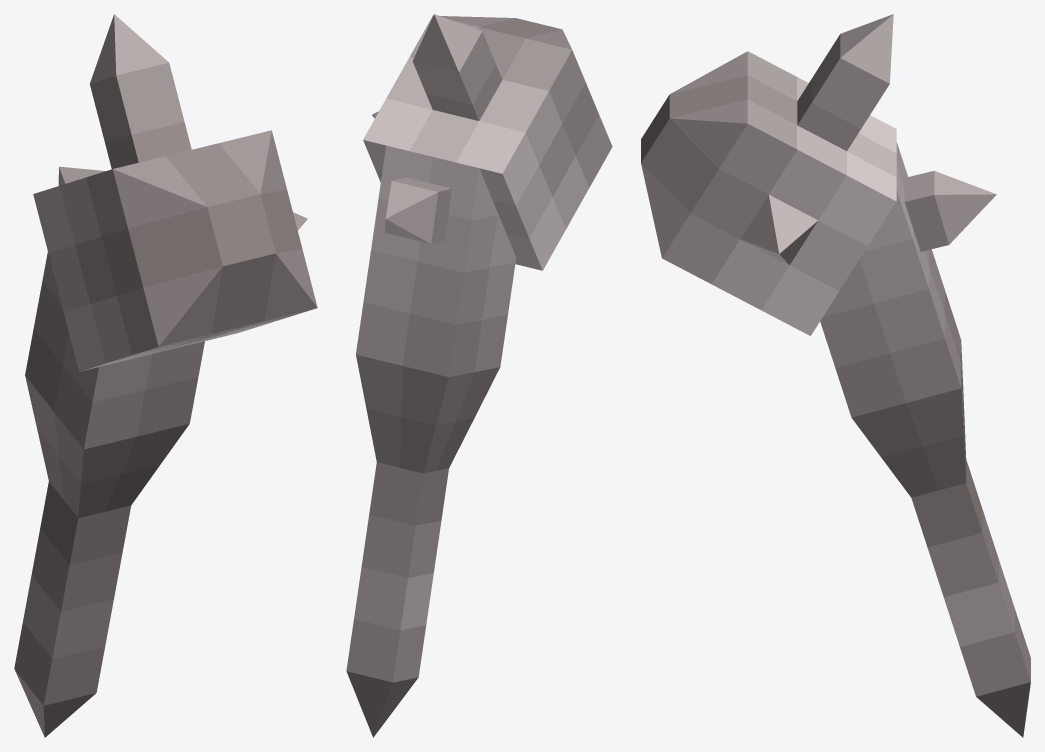
Rendered from leg_ender_front_r.obj.
The picture shows the model from 3 angles, left to right: view 1: azimuth 30°, elevation 25°; view 2: azimuth 150°, elevation 25°; view 3: azimuth 270°, elevation 25°; orthographic projection. The views are drawn at different scales.
Parts seen in each view (by area): view 1: LEG_ENDER_RIGHTFRONT_Cube.005, ELEG_RIGHTFRONT_DECO_IRON_Cube.177; view 2: LEG_ENDER_RIGHTFRONT_Cube.005, ELEG_RIGHTFRONT_DECO_IRON_Cube.177; view 3: LEG_ENDER_RIGHTFRONT_Cube.005, ELEG_RIGHTFRONT_DECO_IRON_Cube.177.
Boxes of the visible parts, left/top/right/bottom form: LEG_ENDER_RIGHTFRONT_Cube.005: left=14, top=130, right=317, bottom=737; ELEG_RIGHTFRONT_DECO_IRON_Cube.177: left=58, top=14, right=307, bottom=230; LEG_ENDER_RIGHTFRONT_Cube.005: left=346, top=16, right=612, bottom=737; ELEG_RIGHTFRONT_DECO_IRON_Cube.177: left=372, top=14, right=502, bottom=243; LEG_ENDER_RIGHTFRONT_Cube.005: left=641, top=51, right=1030, bottom=737; ELEG_RIGHTFRONT_DECO_IRON_Cube.177: left=740, top=14, right=996, bottom=265.
Bounding box in the file's own units: 0.25 × 0.8724 × 0.4258.
